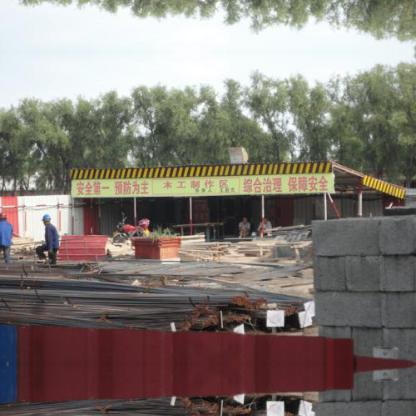helmet: (41, 212, 50, 223), (0, 212, 6, 220)
